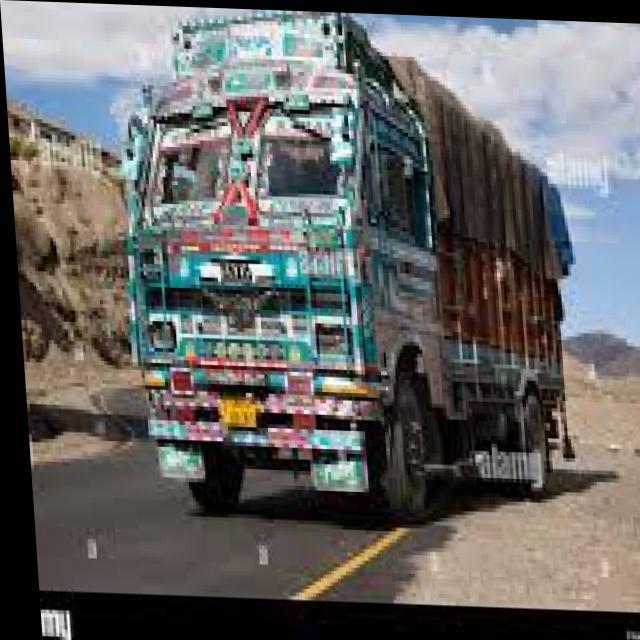covered: (103, 3, 584, 523)
